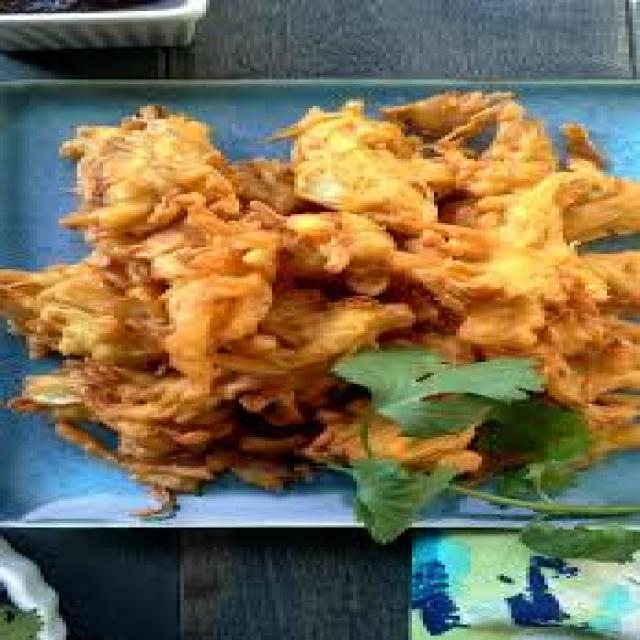BAJI: (42, 115, 630, 490)
